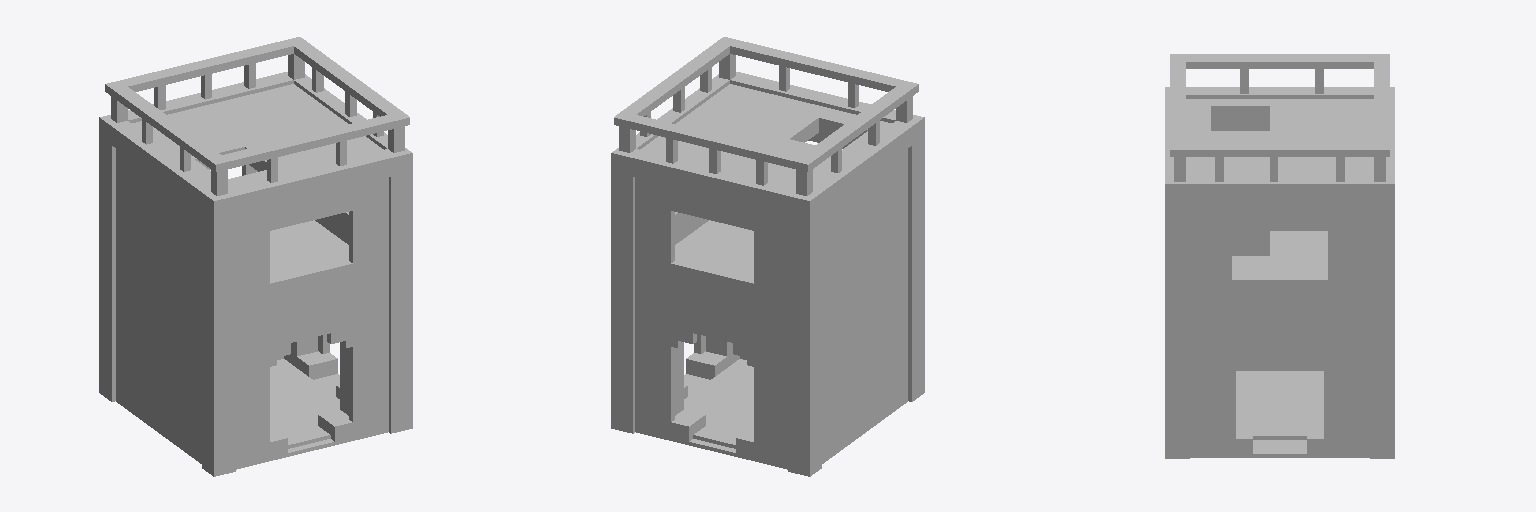
Rendered from castle.obj.
3 views of the same model, side by side, from view 1: azimuth 30°, elevation 25°; view 2: azimuth 150°, elevation 25°; view 3: azimuth 270°, elevation 25° (orthographic).
Visible parts, largest first — view 1: object 1; view 2: object 1; view 3: object 1.
Part boxes in pixels (left/top/right/bottom): object 1: left=99, top=37, right=412, bottom=476; object 1: left=611, top=37, right=924, bottom=476; object 1: left=1165, top=54, right=1394, bottom=458.
Size of the model in its own units: 5.5 by 8.2 by 5.5.